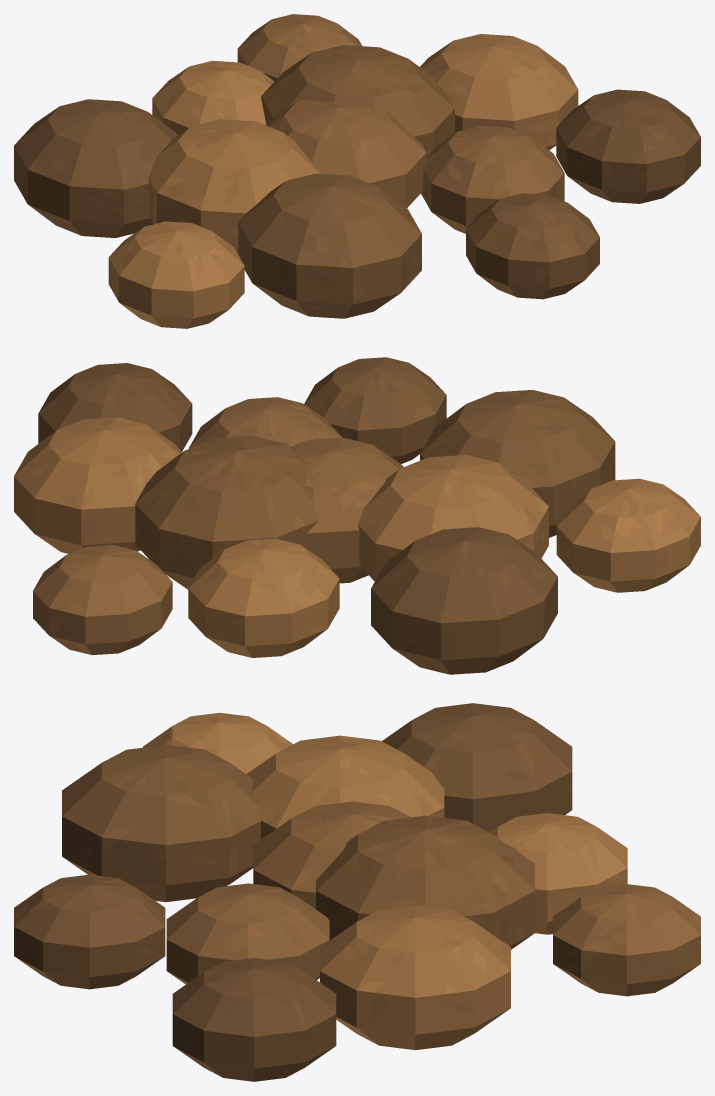
Rendered from buckwheat.glb.
3 views of the same model, one above another, from view 1: azimuth 30°, elevation 25°; view 2: azimuth 150°, elevation 25°; view 3: azimuth 270°, elevation 25° (orthographic). The views are drawn at different scales.
Parts seen in each view (by area): view 1: block_grain 5, block_grain 7, block_grain 2, block_grain 11, block_grain 6, block_grain 10, block_grain 8, block_grain 1, block_grain 3, block_grain 0, block_grain 4, block_grain 9; view 2: block_grain 7, block_grain 1, block_grain 6, block_grain 4, block_grain 5, block_grain 2, block_grain 10, block_grain 9, block_grain 8, block_grain 0, block_grain 11, block_grain 3; view 3: block_grain 5, block_grain 6, block_grain 1, block_grain 11, block_grain 7, block_grain 8, block_grain 9, block_grain 2, block_grain 3, block_grain 4, block_grain 0, block_grain 10.
Part boxes in pixels (x1,y1,x2,y2): block_grain 5: (238, 173, 421, 318); block_grain 7: (14, 99, 177, 237); block_grain 2: (148, 119, 322, 254); block_grain 11: (556, 89, 700, 203); block_grain 6: (420, 34, 578, 150); block_grain 10: (108, 221, 244, 328); block_grain 8: (466, 193, 599, 299); block_grain 1: (261, 45, 454, 156); block_grain 3: (421, 125, 564, 233); block_grain 0: (266, 100, 426, 207); block_grain 4: (152, 60, 274, 134); block_grain 9: (237, 14, 362, 81); block_grain 7: (371, 527, 557, 674); block_grain 1: (135, 436, 318, 589); block_grain 6: (14, 417, 181, 553); block_grain 4: (188, 538, 339, 657); block_grain 5: (420, 390, 615, 537); block_grain 2: (357, 455, 548, 581); block_grain 10: (556, 478, 700, 592); block_grain 9: (33, 545, 172, 655); block_grain 8: (304, 357, 446, 463); block_grain 0: (291, 437, 403, 583); block_grain 11: (38, 363, 192, 451); block_grain 3: (189, 397, 342, 448); block_grain 5: (62, 745, 260, 902); block_grain 6: (320, 905, 510, 1050); block_grain 1: (316, 815, 534, 949); block_grain 11: (172, 958, 336, 1081); block_grain 7: (382, 703, 572, 832); block_grain 8: (14, 874, 165, 989); block_grain 9: (553, 884, 700, 996); block_grain 2: (246, 735, 444, 839); block_grain 3: (166, 883, 329, 984); block_grain 4: (490, 813, 627, 934); block_grain 0: (253, 801, 410, 909); block_grain 10: (143, 712, 292, 773).
Size of the model in its own units: 0.114 by 0.0231 by 0.1047.
1 material, 1 textured.
